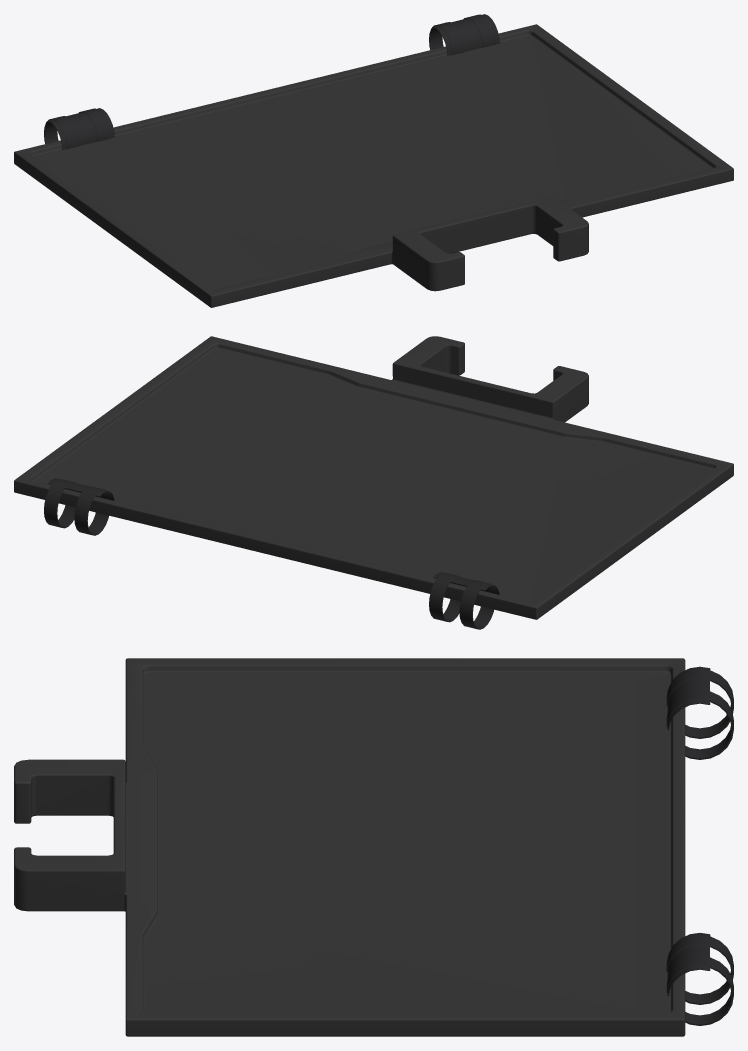
The model's file is WuKongBan.fbx.
The picture shows the model from 3 angles, top to bottom: view 1: azimuth 30°, elevation 25°; view 2: azimuth 150°, elevation 25°; view 3: azimuth 270°, elevation 25°; orthographic projection. The views are drawn at different scales.
Parts seen in each view (by area): view 1: WuKongBan_Mesh; view 2: WuKongBan_Mesh; view 3: WuKongBan_Mesh.
Boxes of the visible parts, x1,y1,x2,y2 form: WuKongBan_Mesh: (14,14,733,307); WuKongBan_Mesh: (14,336,733,629); WuKongBan_Mesh: (14,658,733,1036).
Bounding box in the file's own units: 13 × 1.06 × 10.94.
